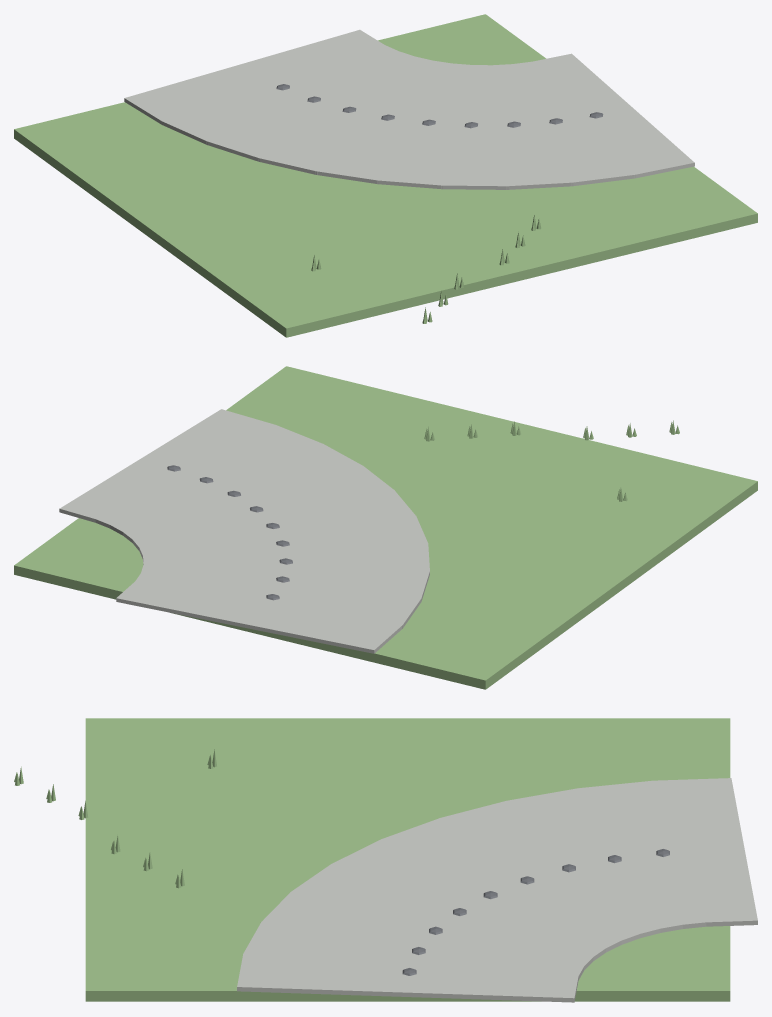
Rendered from wind-and-solar-energy-farm-access-track-curve-4cde3092__34070.glb.
3 views of the same model, one above another, from view 1: azimuth 30°, elevation 25°; view 2: azimuth 150°, elevation 25°; view 3: azimuth 270°, elevation 25° (orthographic). The views are drawn at different scales.
Visible parts, largest first — view 1: access-track-curve; view 2: access-track-curve; view 3: access-track-curve.
Boxes of the visible parts, left/top/right/bottom form: access-track-curve: left=14, top=14, right=757, bottom=337; access-track-curve: left=14, top=366, right=757, bottom=689; access-track-curve: left=14, top=718, right=757, bottom=1002.
Bounding box in the file's own units: 8.34 × 0.3841 × 9.23.
